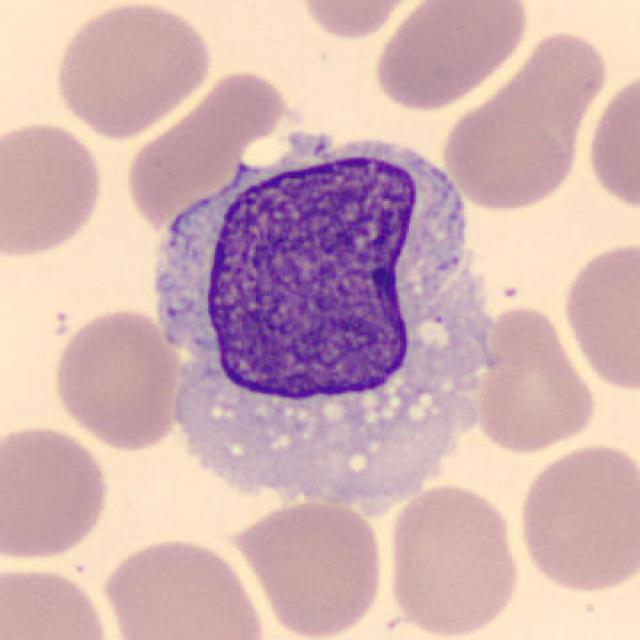Monocyte: (137, 117, 496, 510)
RBC: (438, 27, 601, 212), (48, 0, 217, 141), (226, 495, 389, 640), (132, 68, 279, 228), (382, 482, 524, 638), (48, 305, 187, 451), (471, 302, 601, 456), (514, 439, 636, 596), (96, 532, 268, 640), (368, 0, 532, 113), (0, 421, 114, 566), (0, 116, 107, 263), (558, 236, 638, 395), (0, 559, 116, 640), (583, 63, 640, 217), (291, 0, 428, 42)
